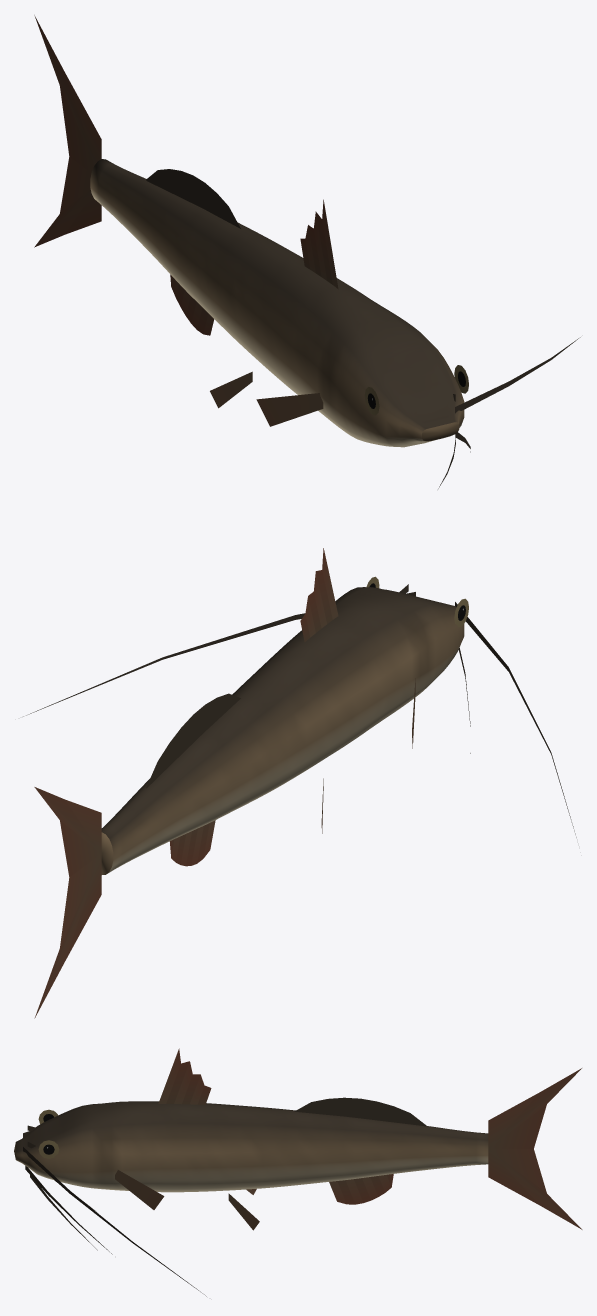
File: baung.fbx
The picture shows the model from 3 angles, top to bottom: view 1: azimuth 30°, elevation 25°; view 2: azimuth 150°, elevation 25°; view 3: azimuth 270°, elevation 25°; orthographic projection. The views are drawn at different scales.
Parts seen in each view (by area): view 1: baung; view 2: baung; view 3: baung.
Part boxes in pixels (x1,y1,x2,y2): baung: (34,15,580,488); baung: (23,548,576,1018); baung: (14,1048,582,1296).
Size of the model in its own units: 0.9696 by 0.431 by 1.2.
